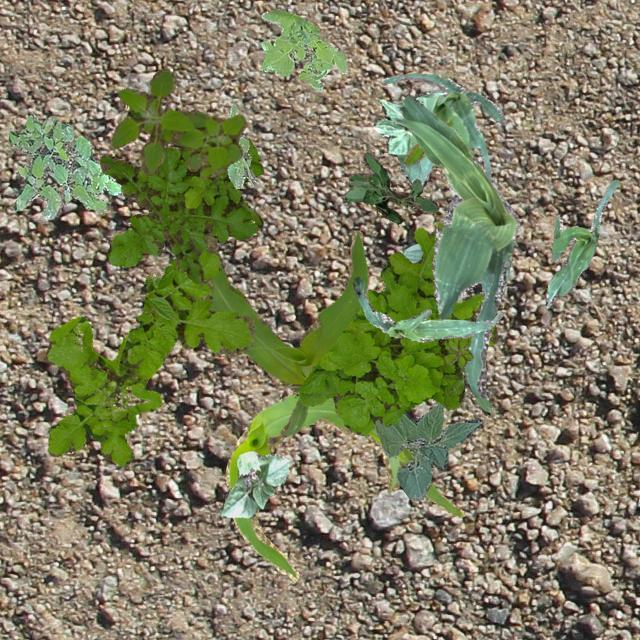crop: (224, 390, 463, 580), (396, 93, 518, 414), (204, 228, 366, 436), (382, 72, 506, 182), (374, 400, 482, 500), (352, 276, 502, 340), (544, 178, 618, 304), (372, 88, 446, 188), (219, 450, 289, 518), (402, 240, 422, 262)
weed: (45, 248, 254, 466), (296, 220, 498, 434), (98, 138, 262, 282), (110, 68, 246, 178), (5, 112, 121, 218), (258, 9, 346, 90), (343, 150, 438, 223), (225, 104, 258, 188), (404, 120, 451, 164), (444, 336, 472, 366)
